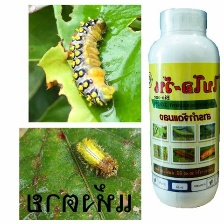insecticide: (147, 6, 222, 210)
